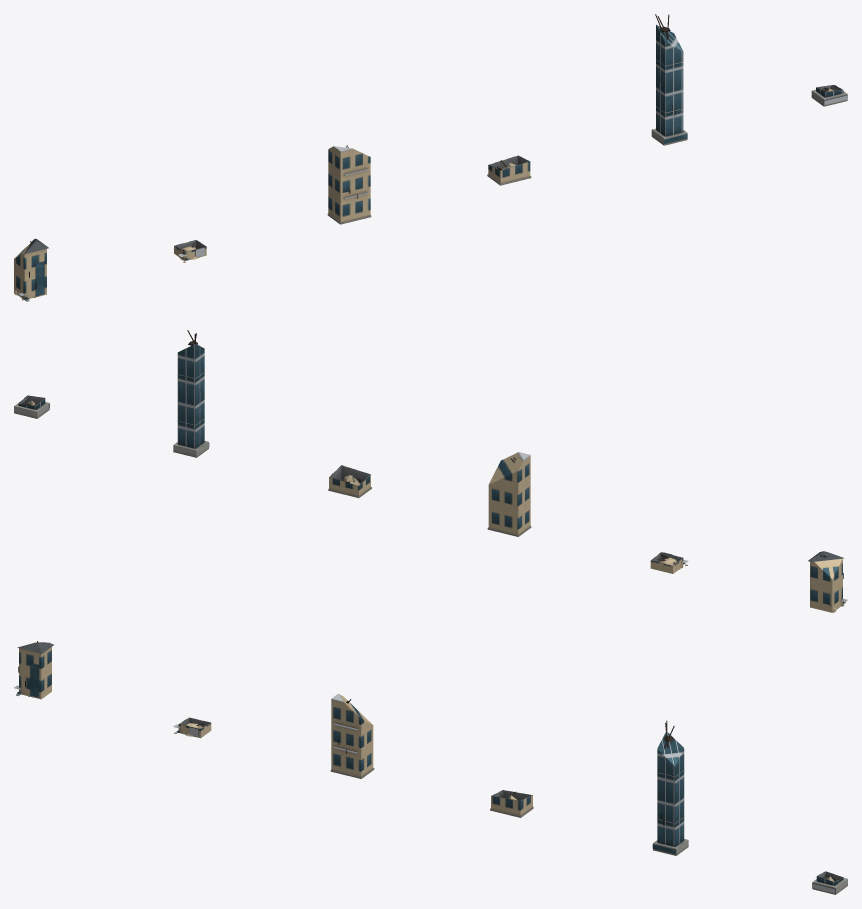
Rendered from information-levant-houses-damage.glb.
The picture shows the model from 3 angles, top to bottom: view 1: azimuth 30°, elevation 25°; view 2: azimuth 150°, elevation 25°; view 3: azimuth 330°, elevation 25°; orthographic projection.
Parts seen in each view (by area): view 1: LOD0.004, LOD0.002, LOD0, LOD0.003, LOD0.005; view 2: LOD0.004, LOD0.002, LOD0, LOD0.003, LOD0.005, LOD0.001; view 3: LOD0.004, LOD0.002, LOD0, LOD0.003, LOD0.005, LOD0.001.
Part boxes in pixels (x1,y1,x2,y2): LOD0.004: (651, 14, 687, 145); LOD0.002: (327, 145, 371, 224); LOD0: (14, 238, 48, 301); LOD0.003: (487, 155, 531, 185); LOD0.005: (811, 85, 847, 106); LOD0.004: (173, 330, 209, 457); LOD0.002: (487, 452, 531, 536); LOD0: (808, 551, 847, 612); LOD0.003: (328, 465, 371, 497); LOD0.005: (14, 395, 49, 418); LOD0.001: (650, 552, 688, 573); LOD0.004: (652, 720, 688, 855); LOD0.002: (330, 693, 374, 778); LOD0: (14, 641, 53, 699); LOD0.003: (490, 790, 533, 817); LOD0.005: (812, 871, 847, 894); LOD0.001: (173, 717, 211, 738).
Size of what is drawn, in the model's own units: 15.49 by 2.21 by 0.46.
1 material, 1 textured.
